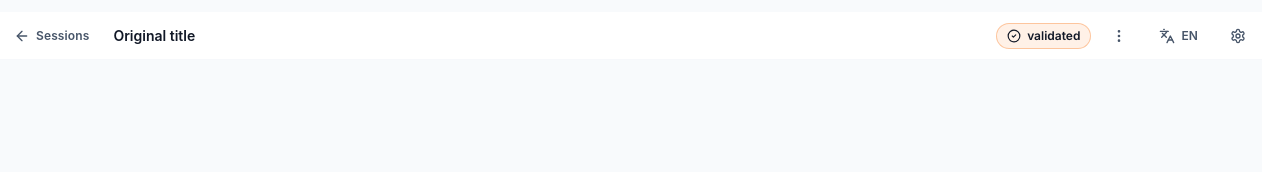
WorkbenchHeader › keeps editing open when rename fails
Double-click the button "Original title".
double_click(154, 36)  # box [113,26,195,46]
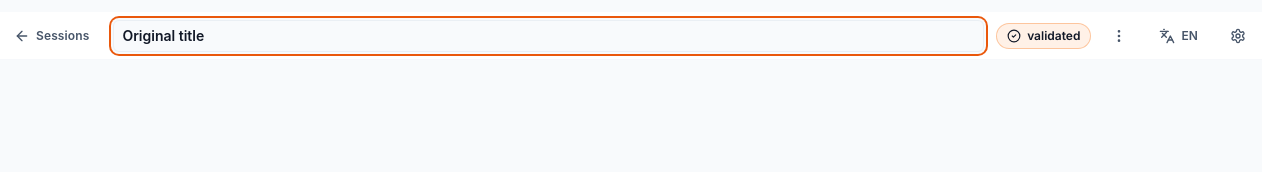
Replace the text in the field named "会话标题" with "Renamed session" at (549, 36), box [113,20,984,52]
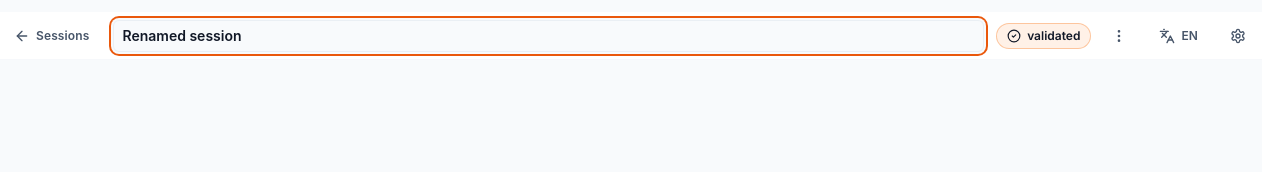
Press Enter in the field named "会话标题", box [113,20,984,52]
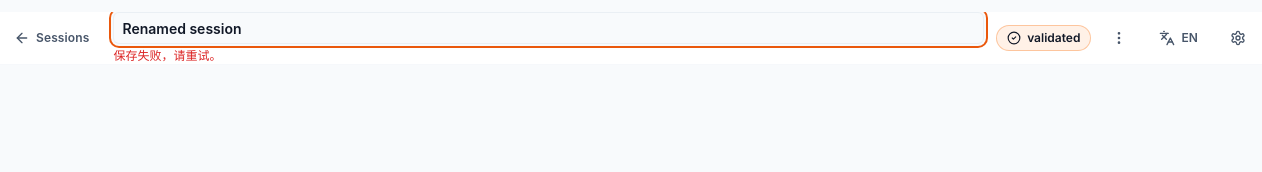
Now the message reads "保存失败，请重试。", box [113,48,221,63]
